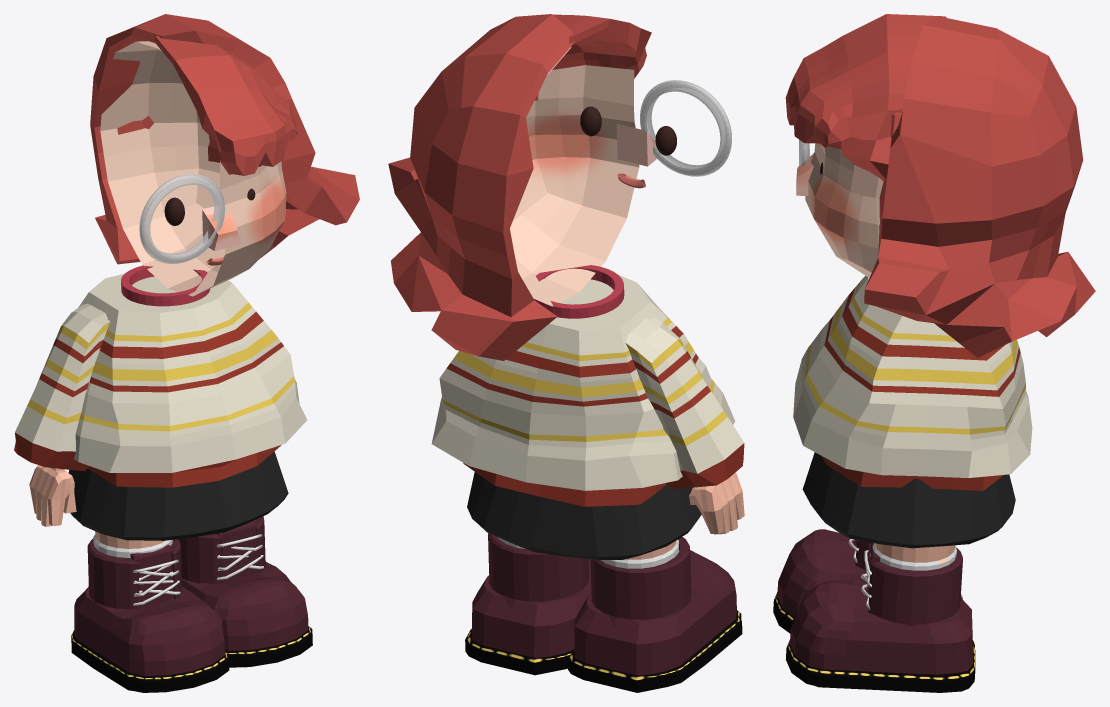
Rendered from half.glb.
3 renders of one model, left to right at view 1: azimuth 30°, elevation 25°; view 2: azimuth 150°, elevation 25°; view 3: azimuth 270°, elevation 25°, orthographic. The views are drawn at different scales.
Parts seen in each view (by area): view 1: sweater, 臉, 臉.001, 鞋子.003, skirt, 瀏海, 立方體, 鞋子.004, 鞋筒.003, 眼鏡, 鞋筒.004, 立方體.001 (+7 smaller); view 2: 臉.001, sweater, 臉, 鞋子.003, skirt, 立方體, 鞋子.004, 鞋筒.003, 鞋筒.004, 瀏海, 眼鏡, 立方體.001 (+3 smaller); view 3: 臉.001, sweater, 鞋子.004, 瀏海, skirt, 臉, 鞋筒.004, 鞋子.003, 圓柱體.001.
Part boxes in pixels (x1,y1,x2,y2): sweater: [74, 273, 307, 487]; 臉: [100, 41, 286, 296]; 臉.001: [90, 14, 359, 264]; 鞋子.003: [71, 586, 229, 692]; skirt: [68, 451, 288, 540]; 瀏海: [154, 36, 297, 175]; 立方體: [14, 303, 110, 471]; 鞋子.004: [181, 561, 312, 667]; 鞋筒.003: [87, 538, 182, 609]; 眼鏡: [139, 174, 224, 263]; 鞋筒.004: [178, 516, 265, 584]; 立方體.001: [29, 465, 76, 526]; 臉.001: [388, 14, 575, 360]; sweater: [431, 275, 734, 506]; 臉: [510, 47, 639, 306]; 鞋子.003: [567, 550, 742, 692]; skirt: [467, 472, 701, 559]; 立方體: [625, 317, 744, 488]; 鞋子.004: [465, 559, 591, 675]; 鞋筒.003: [590, 537, 691, 627]; 鞋筒.004: [488, 533, 589, 609]; 瀏海: [534, 14, 651, 100]; 眼鏡: [640, 80, 731, 176]; 立方體.001: [689, 472, 744, 534]; 臉.001: [864, 16, 1095, 357]; sweater: [793, 275, 1032, 490]; 鞋子.004: [785, 580, 975, 692]; 瀏海: [785, 14, 946, 180]; skirt: [802, 452, 1015, 548]; 臉: [805, 143, 883, 277]; 鞋筒.004: [867, 543, 965, 626]; 鞋子.003: [773, 529, 962, 633]; 圓柱體.001: [872, 543, 956, 570].
Bounding box in the file's own units: 0.6852 × 1.19 × 0.5502.
Materials: 16 (3 with a texture image).
